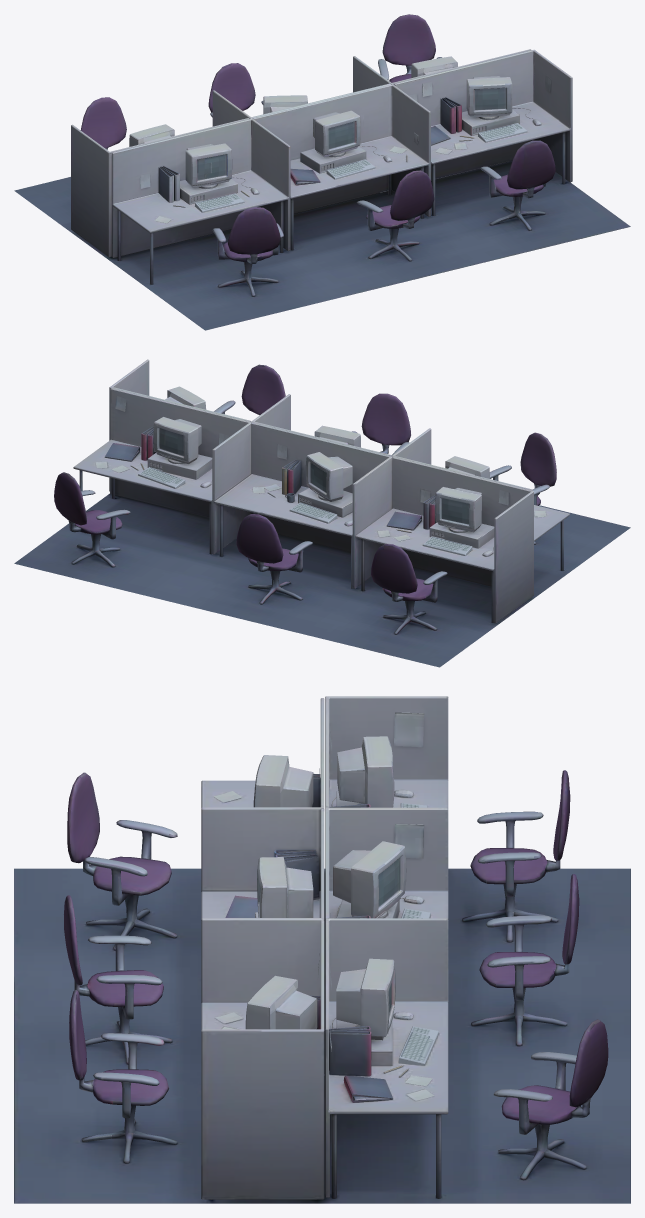
The model's file is deskbox.glb.
3 renders of one model, top to bottom at view 1: azimuth 30°, elevation 25°; view 2: azimuth 150°, elevation 25°; view 3: azimuth 270°, elevation 25°, orthographic. The views are drawn at different scales.
Visible parts, largest first — view 1: Cube, Cube.001; view 2: Cube, Cube.001; view 3: Cube, Cube.001.
Boxes of the visible parts, bbox=[...] form: Cube: bbox=[14, 14, 630, 330]; Cube.001: bbox=[195, 123, 527, 212]; Cube: bbox=[14, 359, 630, 667]; Cube.001: bbox=[138, 467, 472, 555]; Cube: bbox=[14, 696, 630, 1203]; Cube.001: bbox=[399, 803, 438, 1065].
Bounding box in the file's own units: 180 × 43.61 × 140.
Materials: 2 (2 with a texture image).
